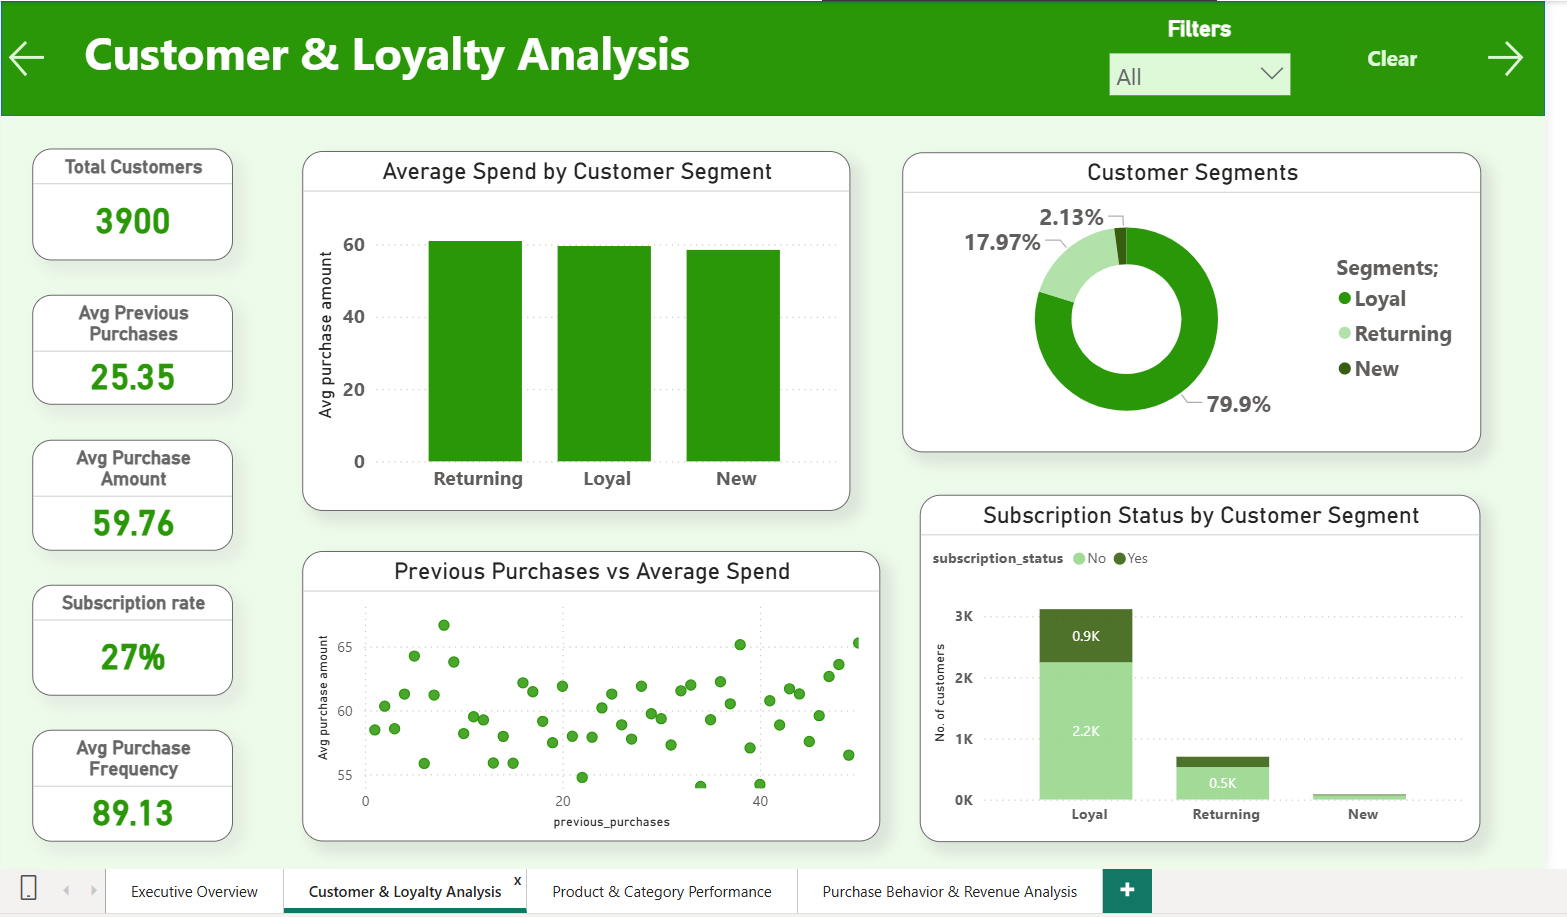

The page's visual inventory and layout, read from the dashboard file:
{"tool":"powerbi","page":{"name":"Customer & Loyalty Analysis","canvas":[1280,720],"ordinal":1},"visuals":[{"type":"card","title":"Total Customers","fields":{"Values":["customer_behaviour customer.No. of customers"]},"box":[25.8,122.7,166.7,92.4],"z":0},{"type":"card","title":"Avg Previous Purchases","fields":{"Values":["customer_behaviour customer.Avg Previous Purchases"]},"box":[25.8,243.8,166.7,90.9],"z":1000},{"type":"card","title":"Avg Purchase Amount","fields":{"Values":["customer_behaviour customer.Avg purchase amount"]},"box":[25.8,363.3,166.7,92],"z":2000},{"type":"card","title":"Subscription rate","fields":{"Values":["customer_behaviour customer.Subscription Rate"]},"box":[25.8,483.9,166.7,92],"z":3000},{"type":"card","title":"Avg Purchase Frequency","fields":{"Values":["customer_behaviour customer.Avg Purchase Frequency"]},"box":[25.8,604.5,166.7,92.4],"z":4000},{"type":"shape","box":[0,0,1280.3,95.5],"z":5000},{"type":"textbox","box":[64,12.8,560.5,69.8],"z":6000},{"type":"columnChart","title":"Average Spend by Customer Segment","fields":{"Category":["customer_behaviour customer.Customer Segment"],"Y":["customer_behaviour customer.Avg purchase amount"]},"box":[250,124.2,454.5,298.5],"z":7000},{"type":"donutChart","title":"Customer Segments","fields":{"Category":["customer_behaviour customer.Customer Segment"],"Y":["customer_behaviour customer.No. of customers"]},"box":[747,125.8,480.3,248.5],"z":8000},{"type":"scatterChart","title":"Previous Purchases vs Average Spend","fields":{"Y":["customer_behaviour customer.Avg purchase amount"],"X":["customer_behaviour customer.previous_purchases"]},"box":[250,455.8,479.1,240.7],"z":9000},{"type":"columnChart","title":"Subscription Status by Customer Segment","fields":{"Category":["customer_behaviour customer.Customer Segment"],"Y":["customer_behaviour customer.No. of customers"],"Series":["customer_behaviour customer.subscription_status"]},"box":[762.1,409.1,465.2,287.9],"z":10000},{"type":"slicer","title":"Filters","fields":{"Values":["customer_behaviour customer.age_group","customer_behaviour customer.gender","customer_behaviour customer.category","customer_behaviour customer.subscription_status"]},"box":[909.3,12.8,169.8,69.8],"z":11000},{"type":"actionButton","box":[1103.5,22.1,100,50],"z":12000},{"type":"actionButton","box":[1226.7,27.9,50,39.5],"z":13000},{"type":"actionButton","box":[2.3,27.9,45.3,39.5],"z":14000}]}

Visuals, with their boxes on the page's 1280x720 design canvas (x1, y1, x2, y2). These are canvas units, not pixel positions in the 1567x917 screenshot, which may show the page scaled, cropped or inside an application window:
"Total Customers" card: (x1=26, y1=123, x2=192, y2=215)
"Avg Previous Purchases" card: (x1=26, y1=244, x2=192, y2=335)
"Avg Purchase Amount" card: (x1=26, y1=363, x2=192, y2=455)
"Subscription rate" card: (x1=26, y1=484, x2=192, y2=576)
"Avg Purchase Frequency" card: (x1=26, y1=604, x2=192, y2=697)
shape: (x1=0, y1=0, x2=1280, y2=96)
textbox: (x1=64, y1=13, x2=624, y2=83)
"Average Spend by Customer Segment" columnChart: (x1=250, y1=124, x2=704, y2=423)
"Customer Segments" donutChart: (x1=747, y1=126, x2=1227, y2=374)
"Previous Purchases vs Average Spend" scatterChart: (x1=250, y1=456, x2=729, y2=696)
"Subscription Status by Customer Segment" columnChart: (x1=762, y1=409, x2=1227, y2=697)
"Filters" slicer: (x1=909, y1=13, x2=1079, y2=83)
actionButton: (x1=1104, y1=22, x2=1204, y2=72)
actionButton: (x1=1227, y1=28, x2=1277, y2=67)
actionButton: (x1=2, y1=28, x2=48, y2=67)
